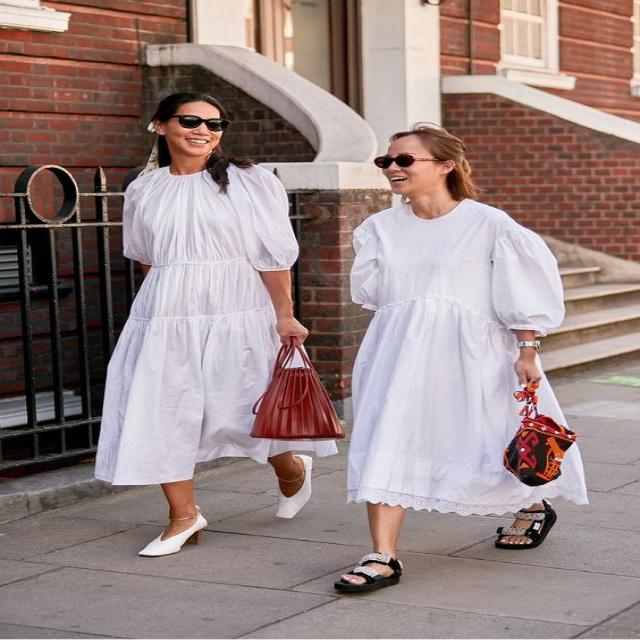clothes: (341, 195, 593, 516), (107, 159, 328, 469)
